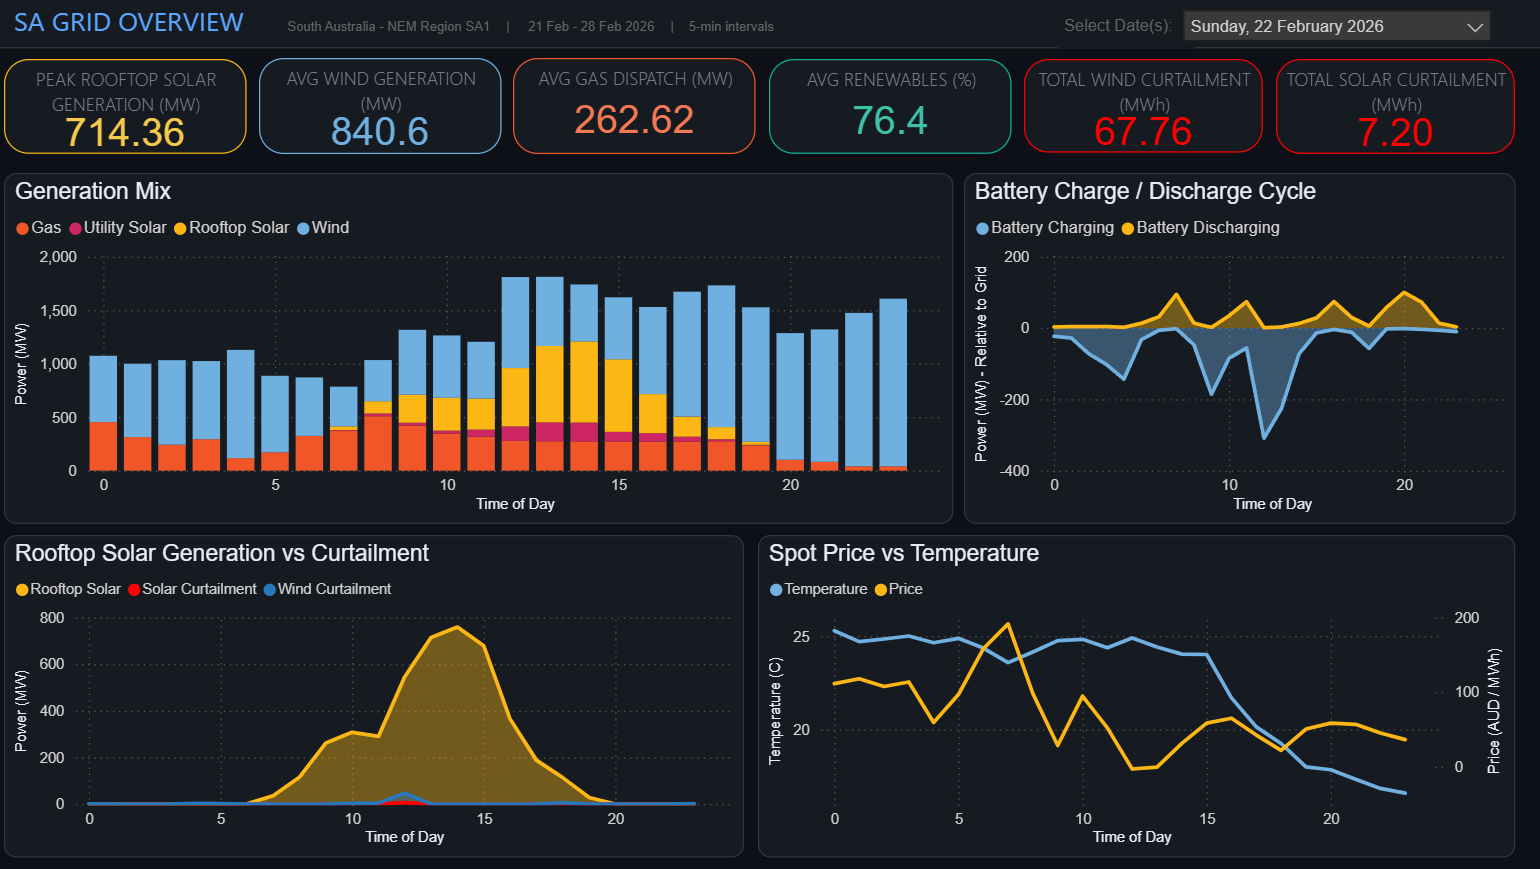

What the dashboard file says about the page in this screenshot:
{"tool":"powerbi","page":{"name":"Grid Overview","canvas":[1280,720],"ordinal":0},"visuals":[{"type":"lineChart","title":"Temperature''s Impact on Energy Pricing","fields":{"Category":["sapn_grid v_sa1_analysis.hour_of_day"],"Y":["Avg(sapn_grid v_sa1_analysis.temperature_c)"],"Y2":["Avg(sapn_grid v_sa1_analysis.price)"]},"box":[648,345.5,596.6,327],"z":0},{"type":"columnChart","title":"Generation Mix","fields":{"Category":["sapn_grid v_sa1_analysis.hour_of_day"],"Y":["Avg(sapn_grid v_sa1_analysis.total_gas_mw)","Avg(sapn_grid v_sa1_analysis.solar_rooftop_mw)","Avg(sapn_grid v_sa1_analysis.solar_utility_mw)","Avg(sapn_grid v_sa1_analysis.wind_mw)"]},"box":[31.2,345.5,609.2,327],"z":1000},{"type":"textbox","box":[0,0,1280,54.7],"z":2000},{"type":"card","title":"AVG RENEWABLES PERCENTAGE %","fields":{"Values":["Avg(sapn_grid v_sa1_analysis.renewable_pct)"]},"box":[239.1,82.8,180.9,110.4],"z":3000},{"type":"card","title":"AVG ROOFTOP SOLAR AT PEAK HOUR (MW)","fields":{"Values":["Avg(sapn_grid v_sa1_analysis.solar_rooftop_mw)"]},"box":[31.4,82.8,180.9,110.4],"z":4000},{"type":"card","title":"AVG WIND GENERATION (MW)","fields":{"Values":["Avg(sapn_grid v_sa1_analysis.wind_mw)"]},"box":[31.4,211.5,180.9,110.4],"z":5000},{"type":"card","title":"AVG GAS DISPATCH (MW)","fields":{"Values":["Avg(sapn_grid v_sa1_analysis.total_gas_mw)"]},"box":[239.1,211.5,180.9,110.4],"z":6000},{"type":"lineChart","title":"Rooftop Solar Usage vs Curtailment","fields":{"Category":["sapn_grid v_sa1_analysis.hour_of_day"],"Y":["Avg(sapn_grid v_sa1_analysis.solar_rooftop_mw)","Avg(sapn_grid v_sa1_analysis.solar_curtailment_mw)","Avg(sapn_grid v_sa1_analysis.wind_curtailment_mw)"]},"box":[466,82.6,575.5,239.3],"z":7000},{"type":"textbox","box":[883.4,18.2,111.3,30.6],"z":7500},{"type":"card","title":"AVG SOLAR CURTAILMENT (MW)","fields":{"Values":["Avg(sapn_grid v_sa1_analysis.solar_curtailment_mw)"]},"box":[1063.4,82.6,181.2,110.4],"z":8000},{"type":"card","title":"AVG WIND CURTAILMENT (MW)","fields":{"Values":["Avg(sapn_grid v_sa1_analysis.wind_curtailment_mw)"]},"box":[1063.4,211.5,181.2,110.4],"z":9000},{"type":"slicer","fields":{"Values":["sapn_grid v_sa1_analysis.date_only"]},"box":[975.1,8,270,38.6],"z":10000}]}

Visuals, with their boxes in screenshot pixels (x1, y1, x2, y2), scaled from the page's 1280x720 canvas onto the 1540x869 screenshot:
"Temperature''s Impact on Energy Pricing" lineChart: bbox=[780, 417, 1497, 812]
"Generation Mix" columnChart: bbox=[38, 417, 770, 812]
textbox: bbox=[0, 0, 1539, 66]
"AVG RENEWABLES PERCENTAGE %" card: bbox=[288, 100, 505, 233]
"AVG ROOFTOP SOLAR AT PEAK HOUR (MW)" card: bbox=[38, 100, 255, 233]
"AVG WIND GENERATION (MW)" card: bbox=[38, 255, 255, 389]
"AVG GAS DISPATCH (MW)" card: bbox=[288, 255, 505, 389]
"Rooftop Solar Usage vs Curtailment" lineChart: bbox=[561, 100, 1253, 389]
textbox: bbox=[1063, 22, 1197, 59]
"AVG SOLAR CURTAILMENT (MW)" card: bbox=[1279, 100, 1497, 233]
"AVG WIND CURTAILMENT (MW)" card: bbox=[1279, 255, 1497, 389]
slicer - sapn_grid v_sa1_analysis.date_only: bbox=[1173, 10, 1498, 56]
